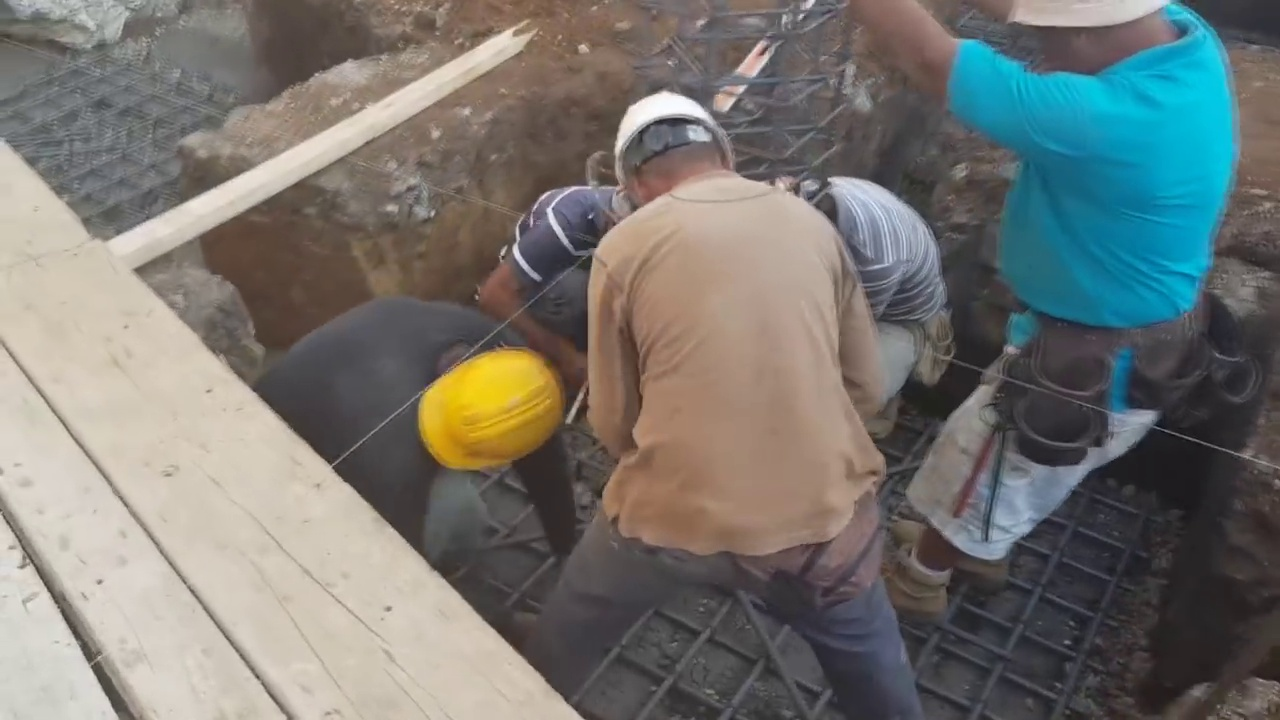helmet: (417, 347, 555, 485), (611, 86, 740, 191)
helmet-off: (1005, 6, 1171, 74)
helmet-on: (404, 332, 566, 489), (613, 86, 753, 209)
person: (836, 0, 1248, 630), (517, 89, 926, 719), (248, 286, 568, 591), (757, 164, 952, 442), (461, 180, 636, 356)
